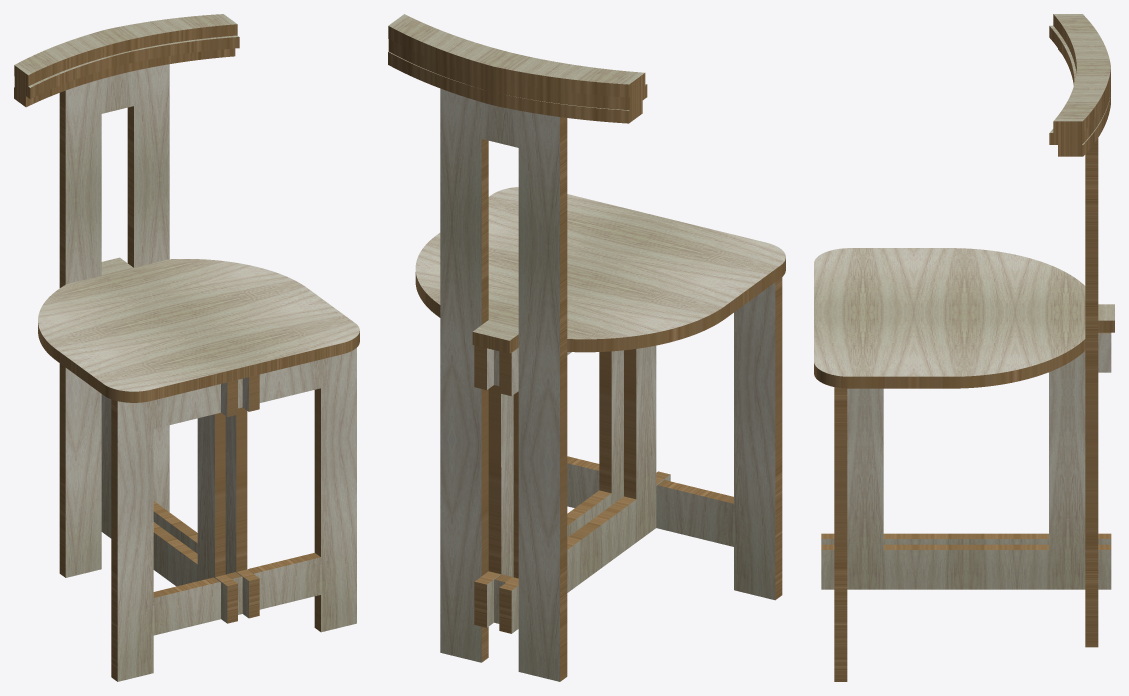
The model's file is NODO_SILLA_COUNTRY_KIRI_V2_RESPALDO_CORREGIDO.glb.
The picture shows the model from 3 angles, left to right: view 1: azimuth 30°, elevation 25°; view 2: azimuth 150°, elevation 25°; view 3: azimuth 270°, elevation 25°; orthographic projection. The views are drawn at different scales.
Parts seen in each view (by area): view 1: Frente, Asiento, Pata_respaldo, Central_1, Central_2, Travesano_3, Travesano_2, Travesano_1; view 2: Pata_respaldo, Asiento, Frente, Central_1, Central_2, Travesano_3, Travesano_1, Travesano_2; view 3: Asiento, Central_2, Pata_respaldo, Travesano_3, Frente, Central_1, Travesano_2, Travesano_1.
Part boxes in pixels (x1,y1,x2,y2): Frente: [111, 348, 356, 681]; Asiento: [38, 257, 359, 402]; Pata_respaldo: [59, 64, 169, 577]; Central_1: [101, 380, 237, 623]; Central_2: [153, 374, 259, 618]; Travesano_3: [14, 14, 237, 86]; Travesano_2: [14, 35, 239, 98]; Travesano_1: [14, 48, 235, 107]; Pata_respaldo: [440, 88, 567, 681]; Asiento: [415, 187, 785, 353]; Frente: [567, 277, 782, 600]; Central_1: [499, 345, 670, 633]; Central_2: [474, 345, 623, 627]; Travesano_3: [388, 14, 645, 97]; Travesano_1: [388, 51, 642, 123]; Travesano_2: [388, 39, 647, 109]; Asiento: [814, 248, 1114, 388]; Central_2: [821, 332, 1111, 589]; Pata_respaldo: [1085, 138, 1098, 647]; Travesano_3: [1053, 14, 1110, 132]; Frente: [834, 387, 847, 681]; Central_1: [821, 533, 1111, 544]; Travesano_2: [1049, 25, 1110, 144]; Travesano_1: [1058, 49, 1110, 156].
Bounding box in the file's own units: 0.42 × 0.8415 × 0.415.
Materials: 2 (2 with a texture image).
